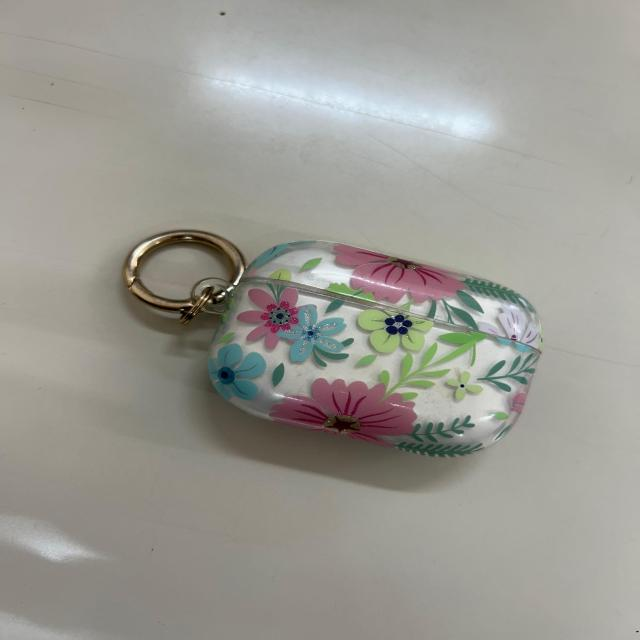inorganic: (120, 229, 540, 458)
